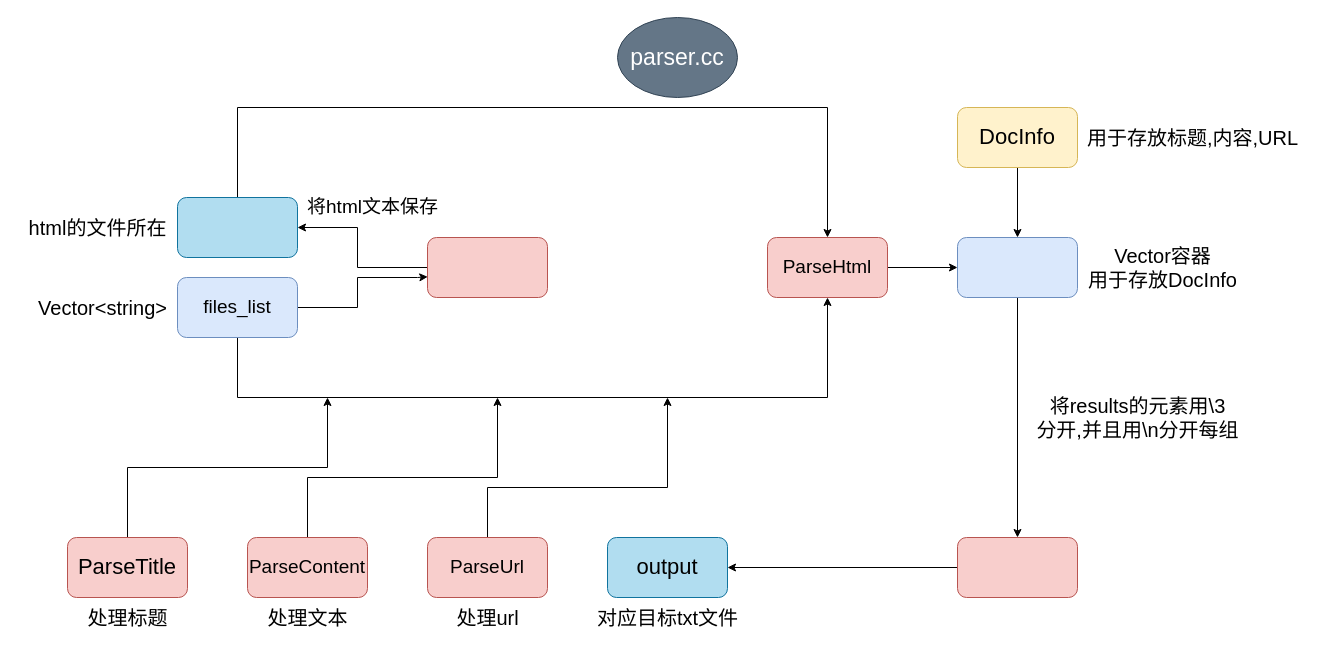
The diagram is 1324 pixels wide and 655 high, and some of its shapes have lost their labels. The box of each missing label's shape, as (x1, y1, x2, y2) in pixels:
EnumFile: (426, 236, 548, 298)
results: (956, 236, 1078, 298)
SaveHtml: (956, 536, 1078, 598)
src_path: (176, 196, 298, 258)
